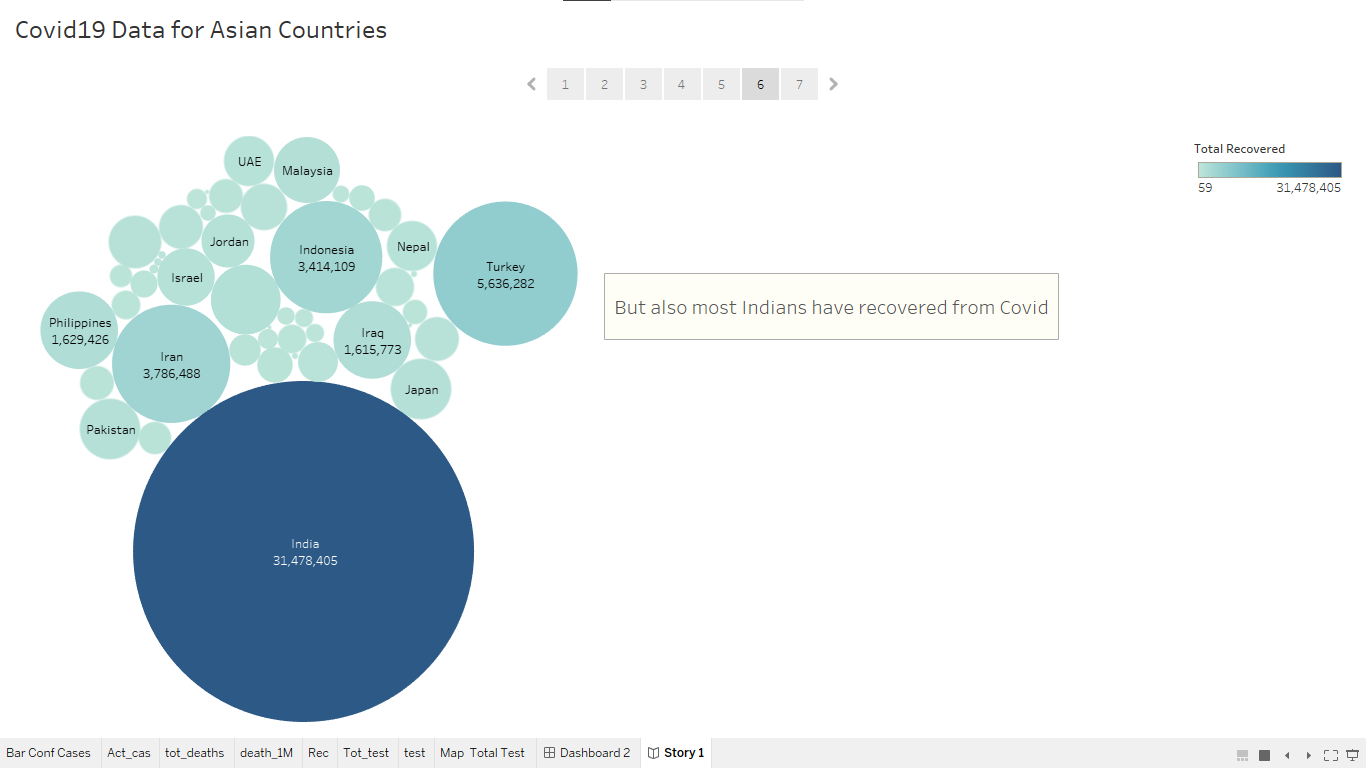

This screenshot's page, from the dashboard's own definition file:
{"tool":"tableau","page":{"name":"Dashboard 2","canvas":[1000,1000],"units":"permille","ordinal":0},"visuals":[{"type":"worksheet","title":"Bar Conf Cases","mark":"Automatic","rows":["Total Cases"],"cols":["Country"],"box":[6.9,13.5,492.6,973]},{"type":"worksheet","title":"Tot_test","mark":"Pie","rows":["Active Cases","Active Cases"],"box":[499.6,13.5,493.5,599.7]},{"type":"worksheet","title":"Rec","mark":"Circle","box":[499.6,613.2,493.5,373.3]}]}

Visuals, with their boxes on the dashboard's canvas, which has no fixed pixel size, in thousandths of its width and height (x1, y1, x2, y2). These are canvas units, not pixel positions in the 1366x768 screenshot, which may show the page scaled, cropped or inside an application window:
"Bar Conf Cases" worksheet: {"left": 7, "top": 14, "right": 500, "bottom": 986}
"Tot_test" worksheet (Pie marks): {"left": 500, "top": 14, "right": 993, "bottom": 613}
"Rec" worksheet (Circle marks): {"left": 500, "top": 613, "right": 993, "bottom": 986}
